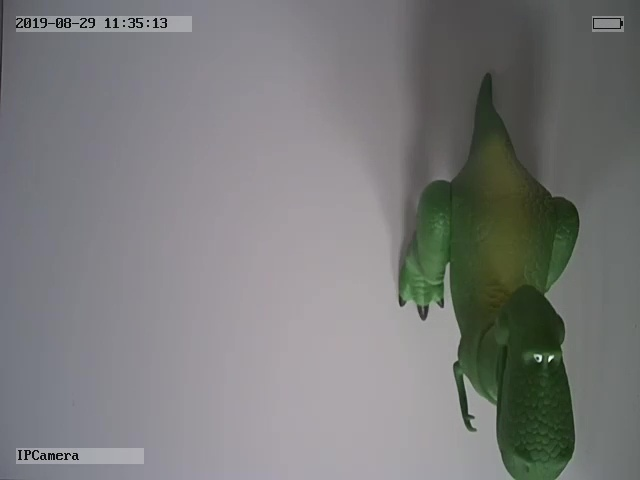rex: (397, 70, 581, 480)
